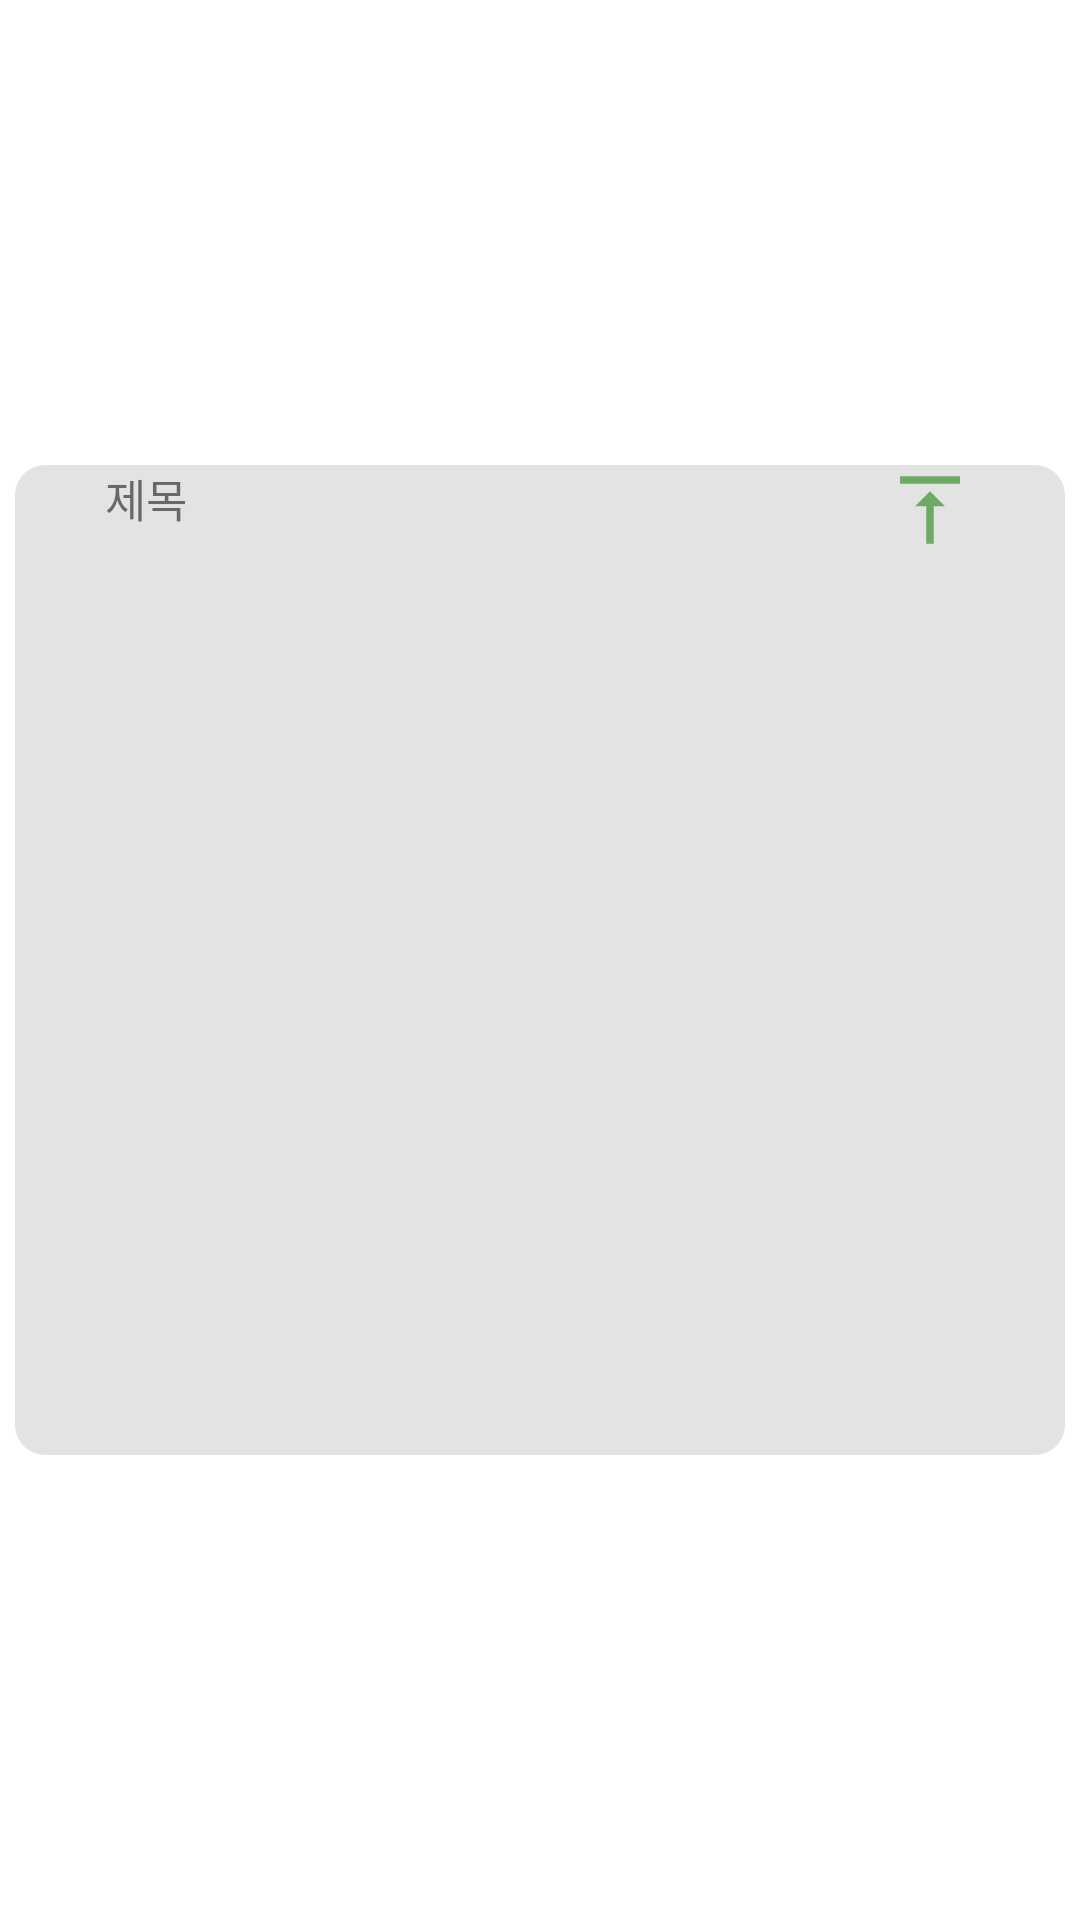

Icons on this 1080x1920 Android screen, each with the point to tap as [x,y]:
top: [930,510]
